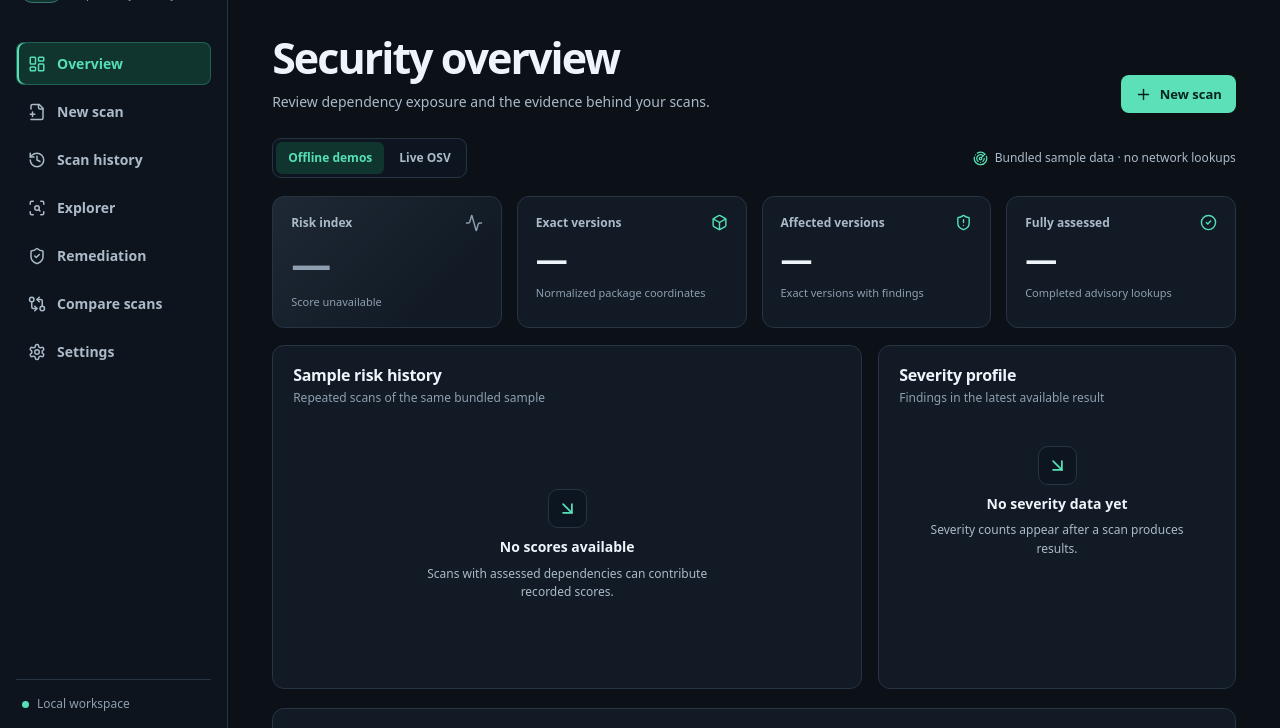
it: Overview and workspace › separates the empty demo state and a retryable live API error
Click the button "Live OSV": (425, 158) [387,142,463,174]
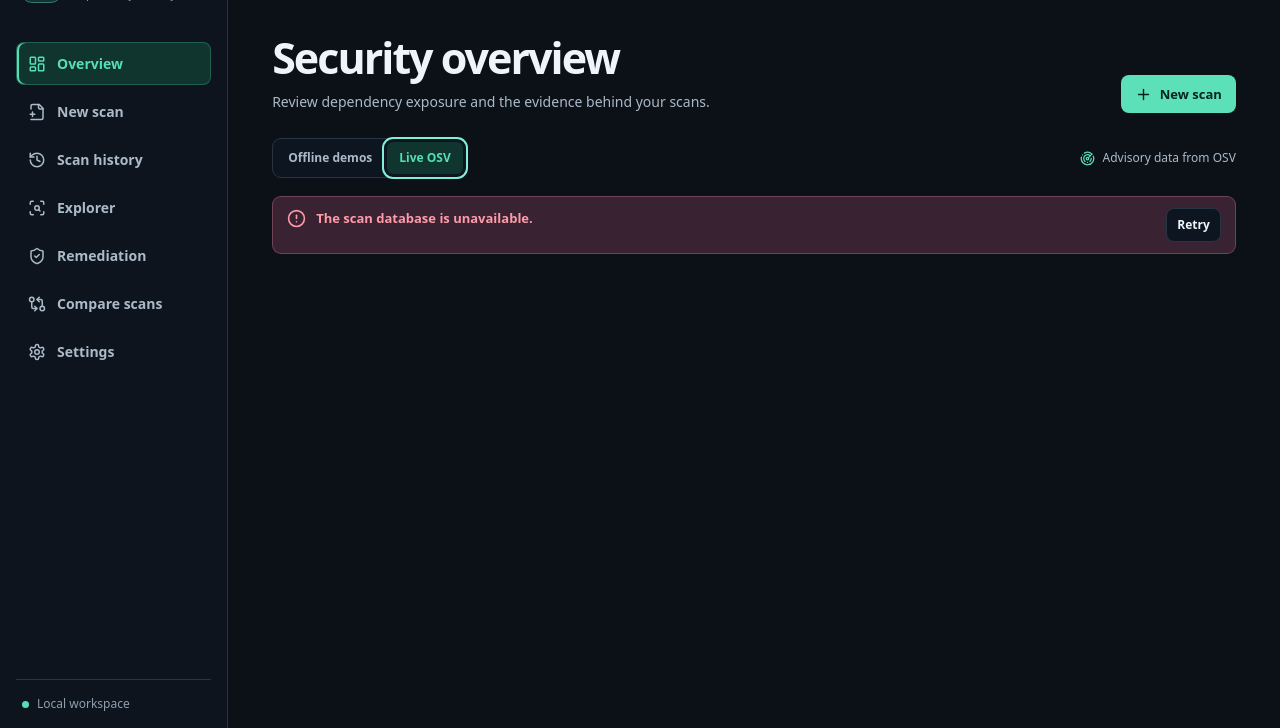
Expected: the message "The scan database is unavailable. Retry" is shown, [272,196,1236,254]
Click the button "Retry": (1194, 225) [1166,208,1221,242]
(page scrolled)
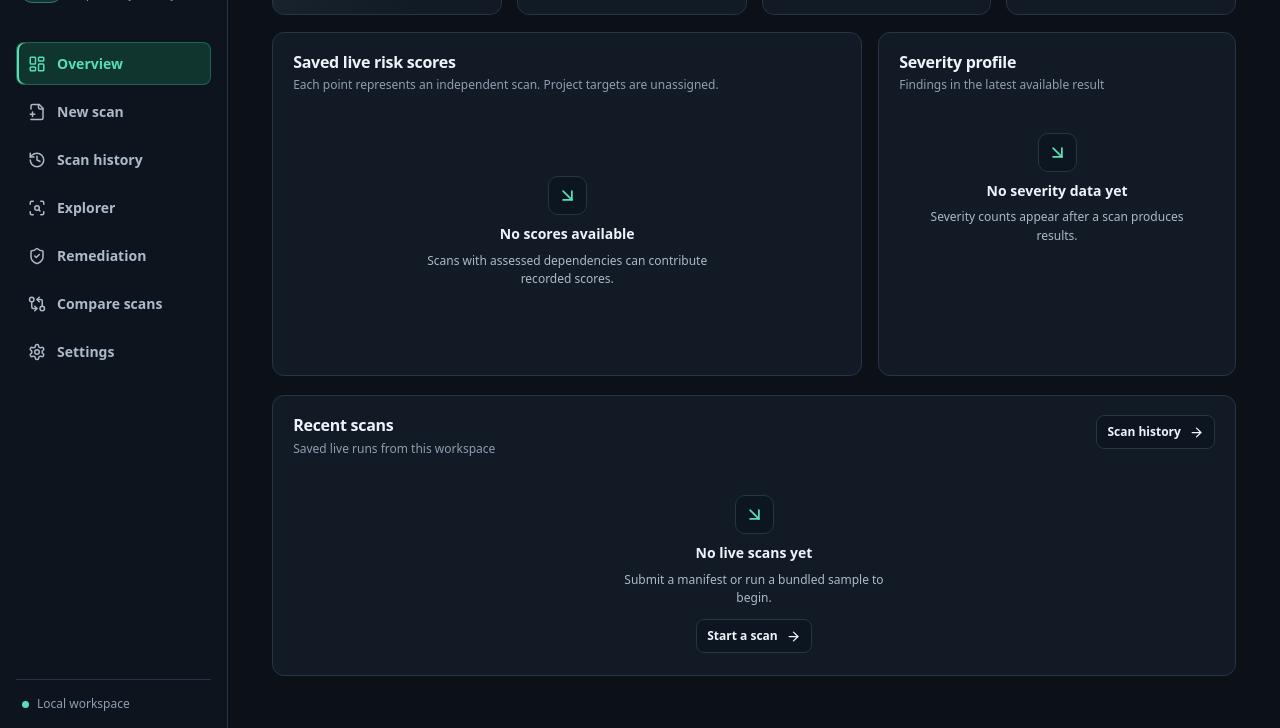
Expected: the heading "No live scans yet" is shown, [696,542,812,564]
